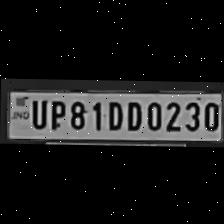0: (200, 98, 220, 130), (144, 97, 162, 128)
1: (88, 98, 104, 130)
2: (161, 97, 181, 130)
3: (181, 98, 199, 131)
8: (66, 97, 88, 130)
D: (103, 96, 123, 130), (122, 97, 142, 130)
P: (46, 96, 66, 128)
U: (28, 96, 46, 128)
